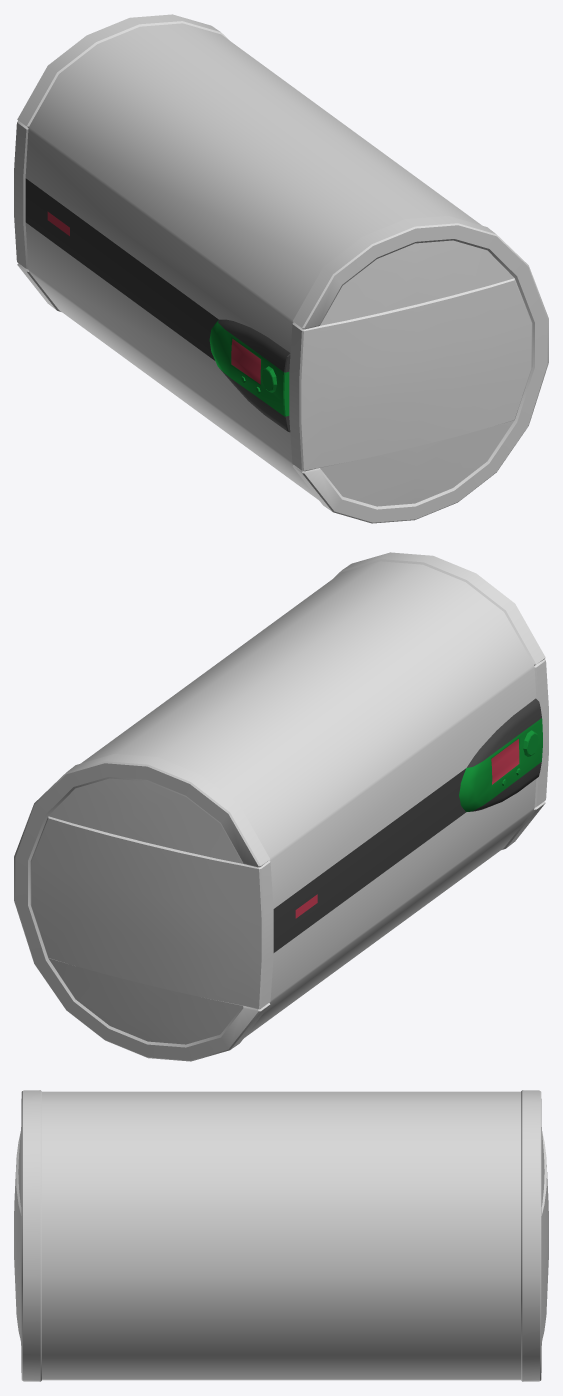
The model's file is SiemensDG75361TI.FBX.
The picture shows the model from 3 angles, top to bottom: view 1: azimuth 30°, elevation 25°; view 2: azimuth 150°, elevation 25°; view 3: azimuth 270°, elevation 25°; orthographic projection. The views are drawn at different scales.
Parts seen in each view (by area): view 1: SiemensDG75361TI; view 2: SiemensDG75361TI; view 3: SiemensDG75361TI.
Boxes of the visible parts, x1=… form: SiemensDG75361TI: x1=14, y1=14, x2=548, y2=523; SiemensDG75361TI: x1=14, y1=552, x2=548, y2=1061; SiemensDG75361TI: x1=14, y1=1090, x2=548, y2=1381.
Bounding box in the file's own units: 1060 × 1157 × 2104.
